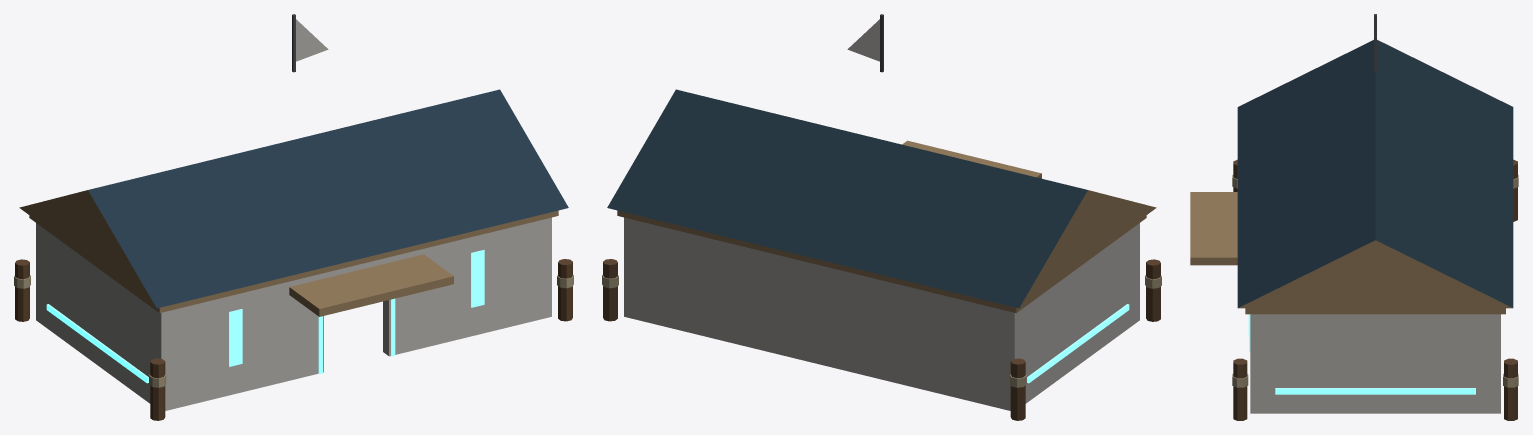
Rendered from shaddai_dist_ocean_b1_v01.glb.
3 views of the same model, side by side, from view 1: azimuth 30°, elevation 25°; view 2: azimuth 150°, elevation 25°; view 3: azimuth 270°, elevation 25° (orthographic).
Visible parts, largest first — view 1: shaddai_dist_ocean_b1; view 2: shaddai_dist_ocean_b1; view 3: shaddai_dist_ocean_b1.
Part boxes in pixels (<box>): shaddai_dist_ocean_b1: <box>14,14,573,420</box>; shaddai_dist_ocean_b1: <box>602,14,1161,420</box>; shaddai_dist_ocean_b1: <box>1190,14,1518,420</box>.
Bounding box in the file's own units: 19.43 × 13.38 × 13.11.
